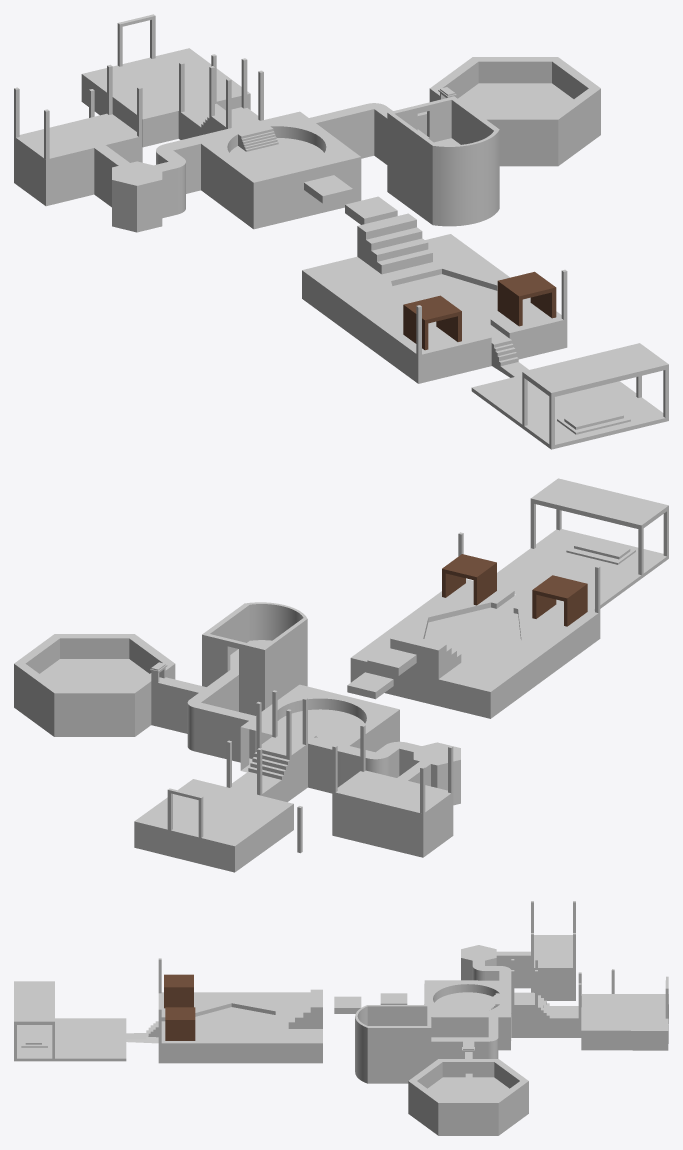
3 renders of one model, top to bottom at view 1: azimuth 30°, elevation 25°; view 2: azimuth 150°, elevation 25°; view 3: azimuth 270°, elevation 25°, orthographic. The views are drawn at different scales.
Visible parts, largest first — view 1: Model, Group18, Group20, Group19; view 2: Model, Group18, Group19, Group20; view 3: Model, Group18, Group20, Group19.
Boxes of the visible parts, left/top/right/bottom form: Model: left=14, top=14, right=668, bottom=434; Group18: left=471, top=375, right=668, bottom=449; Group20: left=497, top=271, right=556, bottom=326; Group19: left=403, top=295, right=461, bottom=350; Model: left=14, top=478, right=668, bottom=872; Group18: left=497, top=529, right=668, bottom=610; Group19: left=532, top=575, right=587, bottom=626; Group20: left=442, top=554, right=496, bottom=605; Model: left=14, top=935, right=668, bottom=1135; Group18: left=14, top=1018, right=126, bottom=1061; Group20: left=165, top=1007, right=195, bottom=1040; Group19: left=164, top=974, right=193, bottom=1008.
Size of the model in its own units: 27412 by 5631 by 45137.
